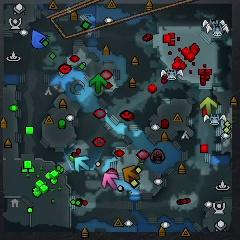p1: (31, 30, 46, 49)
x1: (102, 172, 119, 189)
x2: (200, 97, 218, 115)
x3: (74, 157, 90, 172)
x4: (90, 74, 107, 93)
x5: (123, 165, 140, 183)
